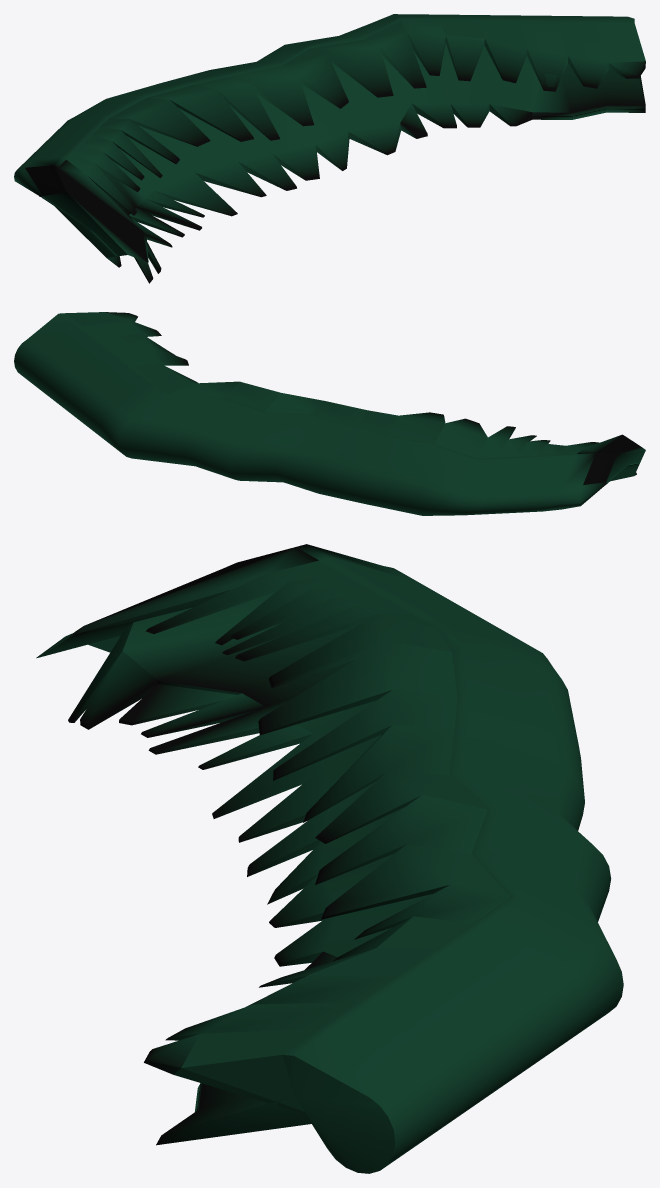
Rendered from LeftWingColor.fbx.
The picture shows the model from 3 angles, top to bottom: view 1: azimuth 30°, elevation 25°; view 2: azimuth 150°, elevation 25°; view 3: azimuth 270°, elevation 25°; orthographic projection. The views are drawn at different scales.
Visible parts, largest first — view 1: pCylinder1; view 2: pCylinder1; view 3: pCylinder1.
Part boxes in pixels (x1,y1,x2,y2): pCylinder1: (14,14,645,283); pCylinder1: (14,312,645,515); pCylinder1: (36,544,623,1173).
Size of the model in its own units: 4.67 by 0.7002 by 2.09.
